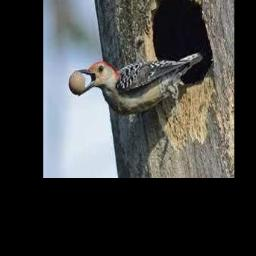Woodpecker: (74, 51, 203, 115)
